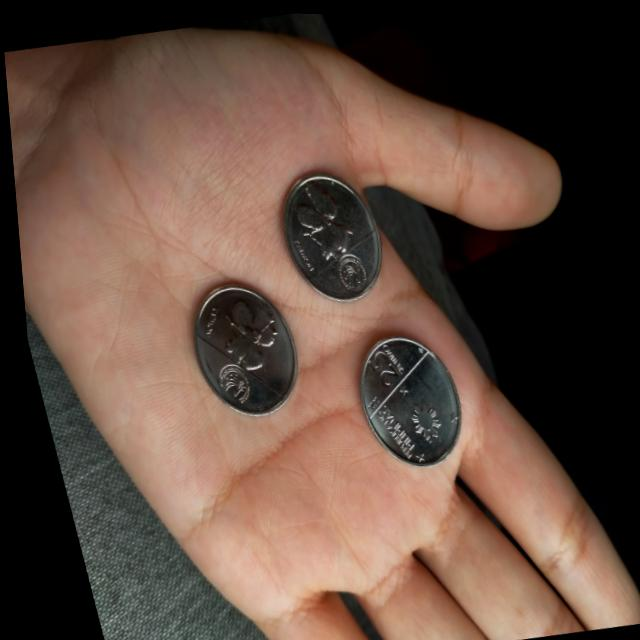25Cent_New_Back: (277, 160, 359, 264), (208, 289, 287, 380)
25Cent_New_Front: (355, 336, 404, 396)
